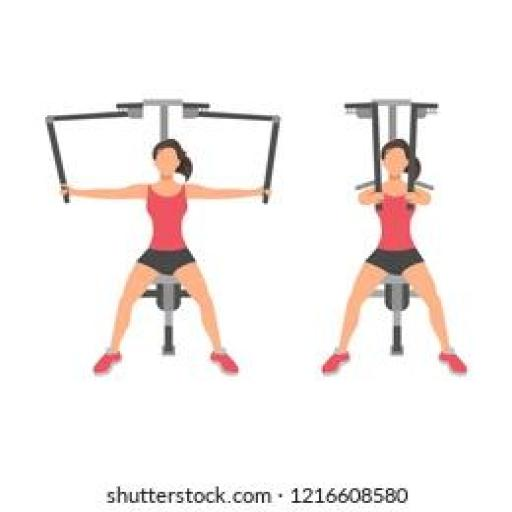exercise: (55, 136, 272, 380), (317, 137, 471, 379)
